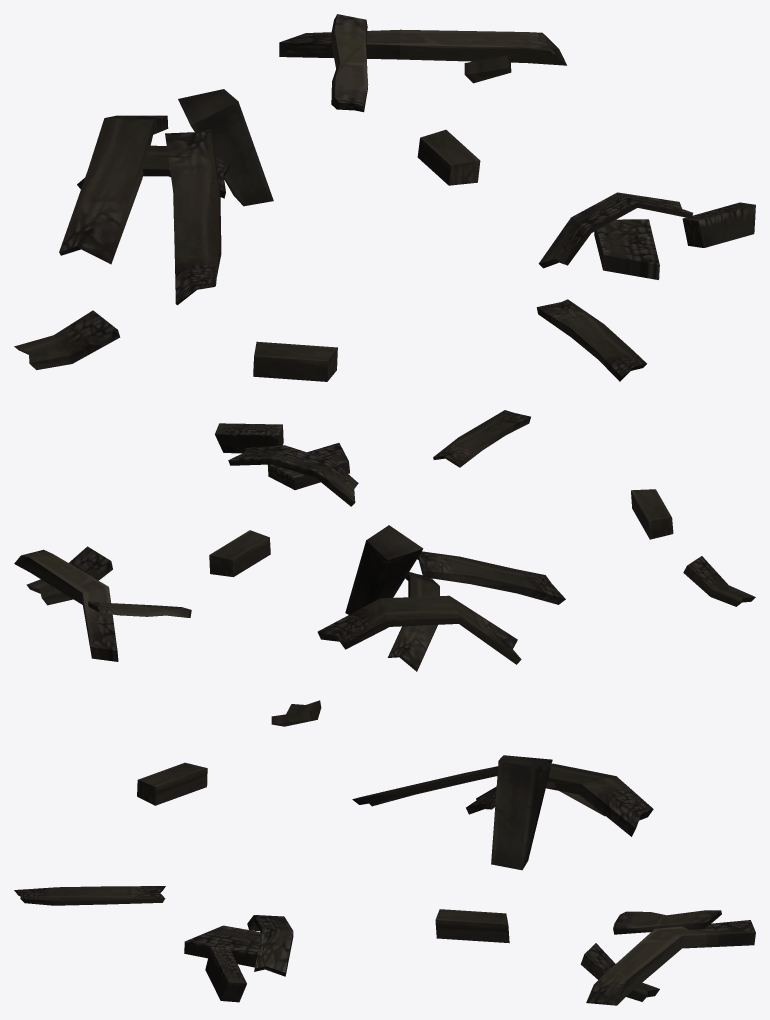
Rendered from debris_piles_burnt_06.fbx.
3 renders of one model, top to bottom at view 1: azimuth 30°, elevation 25°; view 2: azimuth 150°, elevation 25°; view 3: azimuth 270°, elevation 25°, orthographic. The views are drawn at different scales.
Parts seen in each view (by area): view 1: obj0.441; view 2: obj0.441; view 3: obj0.441.
Boxes of the visible parts, <box> form: obj0.441: <box>14,14,755,381</box>; obj0.441: <box>14,410,755,671</box>; obj0.441: <box>14,700,755,1005</box>.
Size of the model in its own units: 7.84 by 1.27 by 8.08.
